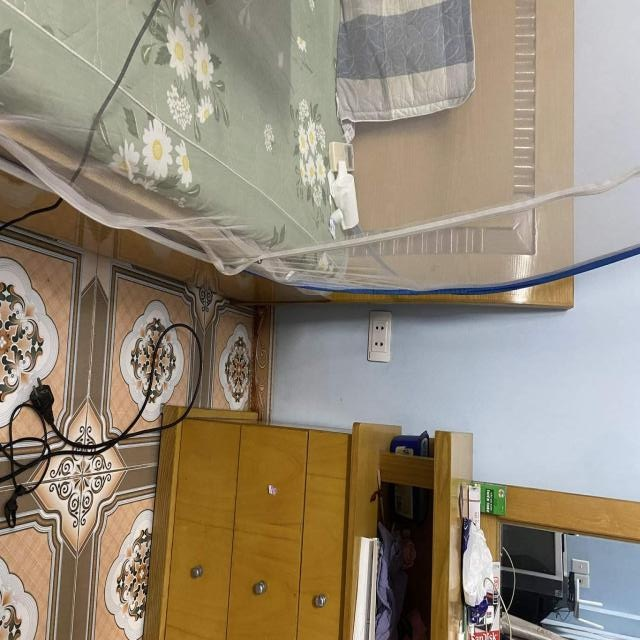outlet: (368, 311, 392, 361)
